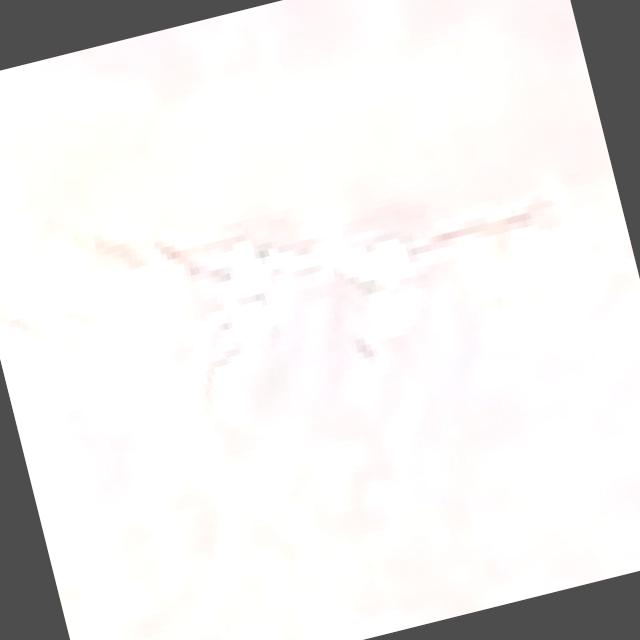crack: (198, 87, 568, 347)
